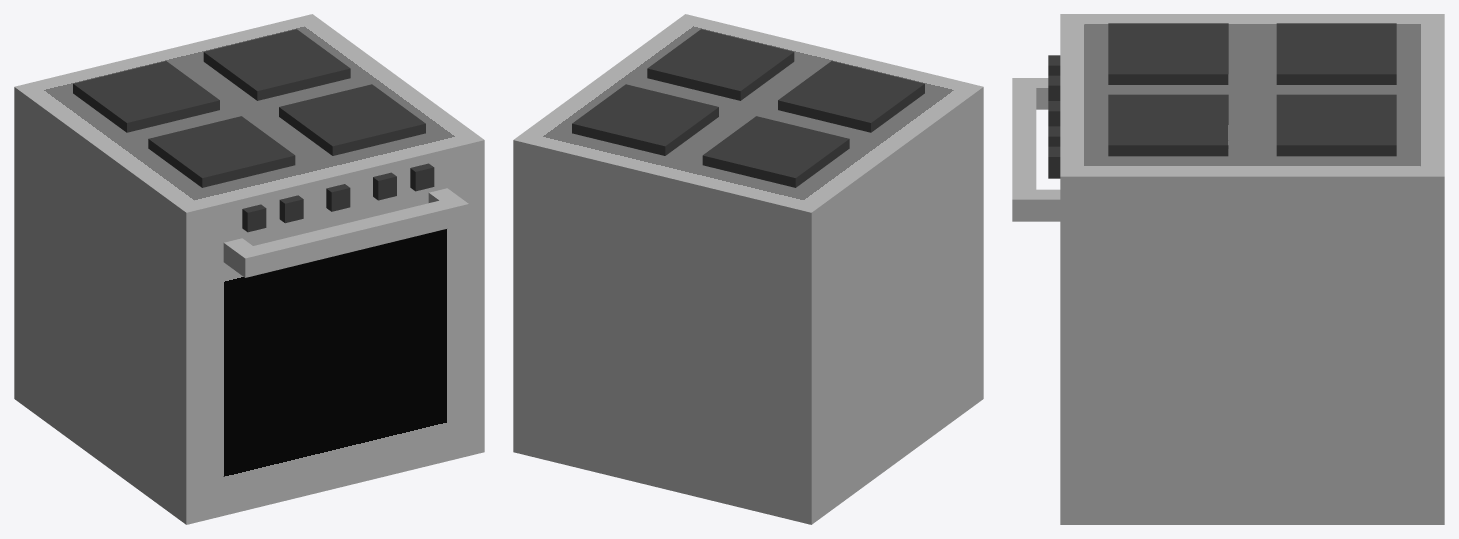
File: oven.fbx
The picture shows the model from 3 angles, left to right: view 1: azimuth 30°, elevation 25°; view 2: azimuth 150°, elevation 25°; view 3: azimuth 270°, elevation 25°; orthographic projection. The views are drawn at different scales.
Parts seen in each view (by area): view 1: cube, handle_3, stoveelement_2, stoveelement_4, stoveelement_3, stoveelement_1, knob_1, knob_3, knob_2, knob_5, knob_4; view 2: cube, stoveelement_3, stoveelement_1, stoveelement_2, stoveelement_4; view 3: cube, stoveelement_3, stoveelement_2, stoveelement_1, stoveelement_4, handle_3, handle_1.
Part boxes in pixels (<box>): cube: <box>14,14,484,524</box>; handle_3: <box>234,196,468,277</box>; stoveelement_2: <box>203,29,350,100</box>; stoveelement_4: <box>148,116,295,187</box>; stoveelement_3: <box>279,84,425,155</box>; stoveelement_1: <box>73,61,219,132</box>; knob_1: <box>242,204,266,232</box>; knob_3: <box>410,163,434,191</box>; knob_2: <box>279,195,303,223</box>; knob_5: <box>326,184,350,211</box>; knob_4: <box>373,172,396,200</box>; cube: <box>513,14,983,524</box>; stoveelement_3: <box>647,29,794,100</box>; stoveelement_1: <box>702,116,849,187</box>; stoveelement_2: <box>572,84,718,155</box>; stoveelement_4: <box>778,61,924,132</box>; cube: <box>1060,14,1444,524</box>; stoveelement_3: <box>1108,94,1228,156</box>; stoveelement_2: <box>1276,94,1396,156</box>; stoveelement_1: <box>1276,23,1396,84</box>; stoveelement_4: <box>1108,23,1228,84</box>; handle_3: <box>1012,78,1036,221</box>; handle_1: <box>1036,189,1060,221</box>.
Size of the model in its own units: 100 by 103 by 112.
